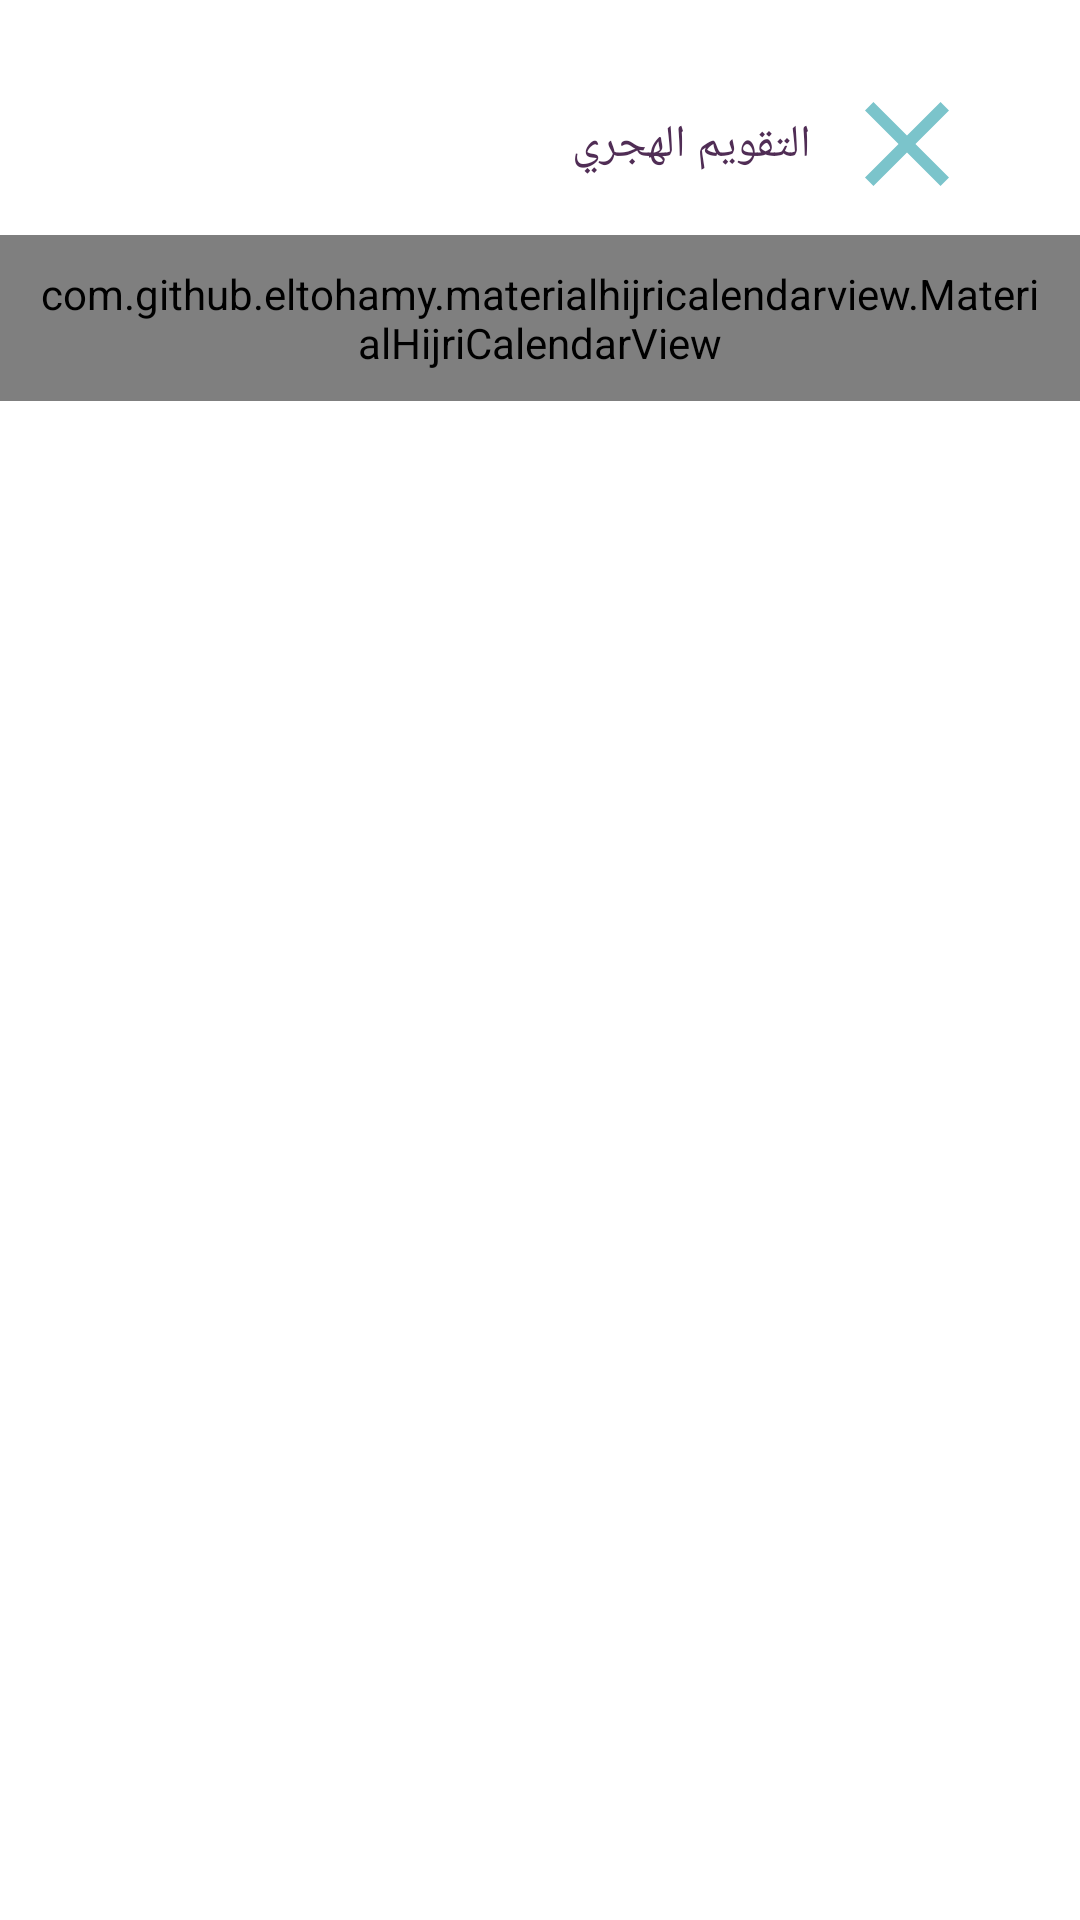

Icons on this 1080 x 1920 Android screen, each with the point to tap as (x,y):
close: (907,144)
